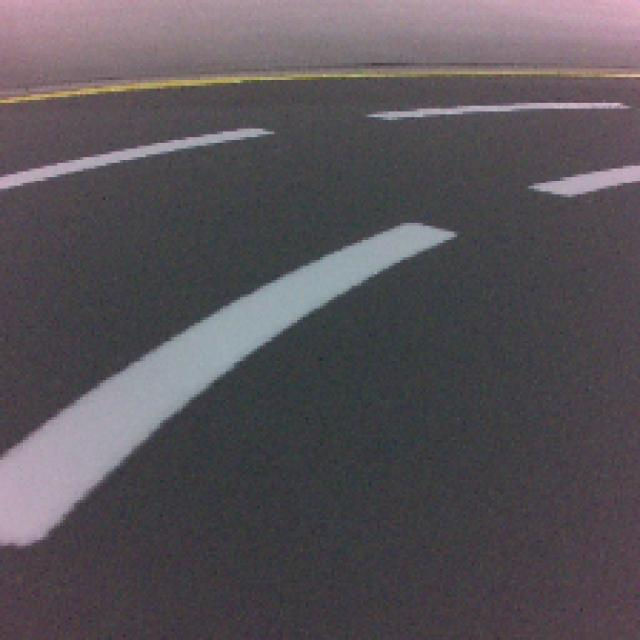Guard rail: (0, 226, 460, 550)
